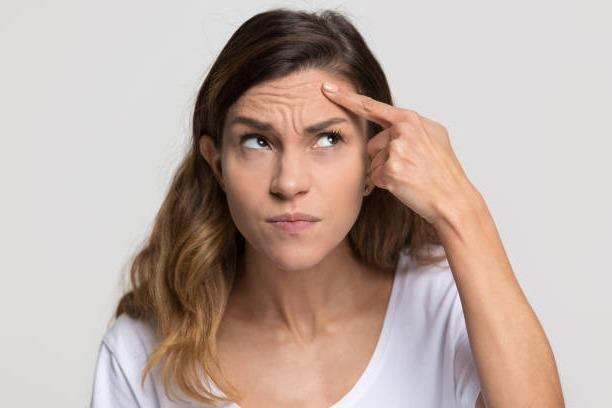Wrinkles: (271, 101, 299, 137), (276, 107, 288, 132), (269, 82, 311, 88), (260, 94, 303, 99), (298, 103, 304, 131)
